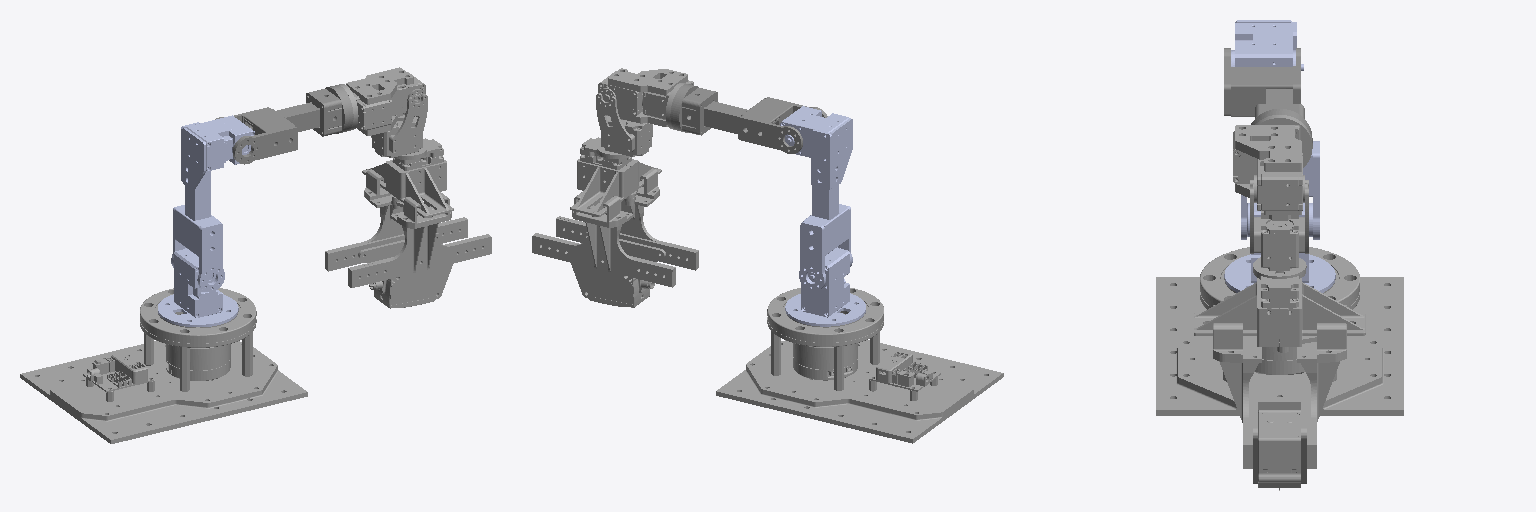
The robot description file, URDF, robot "arm_v20":
<?xml version="1.0" ?>
<!-- =================================================================================== -->
<!-- |    This document was autogenerated by xacro from [local-path]/ws_nhk/src/arm_v20_description-20251026T114629Z-1-001/arm_v20_description/urdf/arm_v20.xacro | -->
<!-- |    EDITING THIS FILE BY HAND IS NOT RECOMMENDED                                 | -->
<!-- =================================================================================== -->
<robot name="arm_v20">
  <material name="silver_default">
    <color rgba="0.700 0.700 0.700 1.000"/>
  </material>
  <material name="opaque202209238">
    <color rgba="0.792156862745098 0.8196078431372549 0.9333333333333333 1.0"/>
  </material>
  <material name="steel_satin">
    <color rgba="0.6274509803921569 0.6274509803921569 0.6274509803921569 1.0"/>
  </material>
  <transmission name="Revolute 1_tran">
    <type>transmission_interface/SimpleTransmission</type>
    <joint name="Revolute 1">
      <hardwareInterface>hardware_interface/EffortJointInterface</hardwareInterface>
    </joint>
    <actuator name="Revolute 1_actr">
      <hardwareInterface>hardware_interface/EffortJointInterface</hardwareInterface>
      <mechanicalReduction>1</mechanicalReduction>
    </actuator>
  </transmission>
  <transmission name="Revolute 2_tran">
    <type>transmission_interface/SimpleTransmission</type>
    <joint name="Revolute 2">
      <hardwareInterface>hardware_interface/EffortJointInterface</hardwareInterface>
    </joint>
    <actuator name="Revolute 2_actr">
      <hardwareInterface>hardware_interface/EffortJointInterface</hardwareInterface>
      <mechanicalReduction>1</mechanicalReduction>
    </actuator>
  </transmission>
  <transmission name="Revolute 3_tran">
    <type>transmission_interface/SimpleTransmission</type>
    <joint name="Revolute 3">
      <hardwareInterface>hardware_interface/EffortJointInterface</hardwareInterface>
    </joint>
    <actuator name="Revolute 3_actr">
      <hardwareInterface>hardware_interface/EffortJointInterface</hardwareInterface>
      <mechanicalReduction>1</mechanicalReduction>
    </actuator>
  </transmission>
  <transmission name="Revolute 4_tran">
    <type>transmission_interface/SimpleTransmission</type>
    <joint name="Revolute 4">
      <hardwareInterface>hardware_interface/EffortJointInterface</hardwareInterface>
    </joint>
    <actuator name="Revolute 4_actr">
      <hardwareInterface>hardware_interface/EffortJointInterface</hardwareInterface>
      <mechanicalReduction>1</mechanicalReduction>
    </actuator>
  </transmission>
  <transmission name="Revolute 5_tran">
    <type>transmission_interface/SimpleTransmission</type>
    <joint name="Revolute 5">
      <hardwareInterface>hardware_interface/EffortJointInterface</hardwareInterface>
    </joint>
    <actuator name="Revolute 5_actr">
      <hardwareInterface>hardware_interface/EffortJointInterface</hardwareInterface>
      <mechanicalReduction>1</mechanicalReduction>
    </actuator>
  </transmission>
  <transmission name="Revolute 6_tran">
    <type>transmission_interface/SimpleTransmission</type>
    <joint name="Revolute 6">
      <hardwareInterface>hardware_interface/EffortJointInterface</hardwareInterface>
    </joint>
    <actuator name="Revolute 6_actr">
      <hardwareInterface>hardware_interface/EffortJointInterface</hardwareInterface>
      <mechanicalReduction>1</mechanicalReduction>
    </actuator>
  </transmission>
  <link name="base_link">
    <inertial>
      <origin rpy="0 0 0" xyz="-0.022278248739678576 2.202100536240091e-05 0.024368049710172035"/>
      <mass value="4.587257651065842"/>
      <inertia ixx="0.011004" ixy="2.1e-05" ixz="-0.001934" iyy="0.018642" iyz="-3e-06" izz="0.023201"/>
    </inertial>
    <visual>
      <origin rpy="0 0 0" xyz="0 0 0"/>
      <geometry>
        <mesh filename="package://arm_v20_description/meshes/base_link.stl" scale="0.001 0.001 0.001"/>
      </geometry>
      <material name="silver_default"/>
    </visual>
    <collision>
      <origin rpy="0 0 0" xyz="0 0 0"/>
      <geometry>
        <mesh filename="package://arm_v20_description/meshes/base_link.stl" scale="0.001 0.001 0.001"/>
      </geometry>
    </collision>
  </link>
  <link name="link1_1">
    <inertial>
      <origin rpy="0 0 0" xyz="9.624761041591018e-05 0.0004766171386192786 0.04186909675865289"/>
      <mass value="0.9838737385924954"/>
      <inertia ixx="0.000872" ixy="0.0" ixz="1e-06" iyy="0.000818" iyz="-8e-06" izz="0.000427"/>
    </inertial>
    <visual>
      <origin rpy="0 0 0" xyz="-0.0 0.0 -0.0525"/>
      <geometry>
        <mesh filename="package://arm_v20_description/meshes/link1_1.stl" scale="0.001 0.001 0.001"/>
      </geometry>
      <material name="opaque202209238"/>
    </visual>
    <collision>
      <origin rpy="0 0 0" xyz="-0.0 0.0 -0.0525"/>
      <geometry>
        <mesh filename="package://arm_v20_description/meshes/link1_1.stl" scale="0.001 0.001 0.001"/>
      </geometry>
    </collision>
  </link>
  <link name="link2_1">
    <inertial>
      <origin rpy="0 0 0" xyz="0.010133653025085067 -0.030787540537666767 0.10364955203955004"/>
      <mass value="1.224302434218257"/>
      <inertia ixx="0.003371" ixy="6.3e-05" ixz="-0.000481" iyy="0.003402" iyz="0.000295" izz="0.000694"/>
    </inertial>
    <visual>
      <origin rpy="0 0 0" xyz="-2.1e-05 -0.024521 -0.123563"/>
      <geometry>
        <mesh filename="package://arm_v20_description/meshes/link2_1.stl" scale="0.001 0.001 0.001"/>
      </geometry>
      <material name="opaque202209238"/>
    </visual>
    <collision>
      <origin rpy="0 0 0" xyz="-2.1e-05 -0.024521 -0.123563"/>
      <geometry>
        <mesh filename="package://arm_v20_description/meshes/link2_1.stl" scale="0.001 0.001 0.001"/>
      </geometry>
    </collision>
  </link>
  <link name="link3_1">
    <inertial>
      <origin rpy="0 0 0" xyz="0.0767579948374143 -0.020345095492947766 -1.1714610781421442e-08"/>
      <mass value="0.7543922108135824"/>
      <inertia ixx="0.000301" ixy="-0.000236" ixz="0.0" iyy="0.001471" iyz="0.0" izz="0.001623"/>
    </inertial>
    <visual>
      <origin rpy="0 0 0" xyz="-0.034771 -0.012321 -0.265313"/>
      <geometry>
        <mesh filename="package://arm_v20_description/meshes/link3_1.stl" scale="0.001 0.001 0.001"/>
      </geometry>
      <material name="steel_satin"/>
    </visual>
    <collision>
      <origin rpy="0 0 0" xyz="-0.034771 -0.012321 -0.265313"/>
      <geometry>
        <mesh filename="package://arm_v20_description/meshes/link3_1.stl" scale="0.001 0.001 0.001"/>
      </geometry>
    </collision>
  </link>
  <link name="link4_1">
    <inertial>
      <origin rpy="0 0 0" xyz="0.0407741110945509 -0.004894497498326476 -4.247916734145818e-06"/>
      <mass value="1.0144724963260483"/>
      <inertia ixx="0.000321" ixy="-0.000103" ixz="0.0" iyy="0.000784" iyz="0.0" izz="0.000827"/>
    </inertial>
    <visual>
      <origin rpy="0 0 0" xyz="-0.170171 0.000179 -0.265313"/>
      <geometry>
        <mesh filename="package://arm_v20_description/meshes/link4_1.stl" scale="0.001 0.001 0.001"/>
      </geometry>
      <material name="silver_default"/>
    </visual>
    <collision>
      <origin rpy="0 0 0" xyz="-0.170171 0.000179 -0.265313"/>
      <geometry>
        <mesh filename="package://arm_v20_description/meshes/link4_1.stl" scale="0.001 0.001 0.001"/>
      </geometry>
    </collision>
  </link>
  <link name="link5_1">
    <inertial>
      <origin rpy="0 0 0" xyz="0.04474344188385446 0.018892728314517836 -0.0113461510891818"/>
      <mass value="0.4401808093617498"/>
      <inertia ixx="0.000133" ixy="0.0" ixz="5e-06" iyy="0.00014" iyz="0.0" izz="0.000129"/>
    </inertial>
    <visual>
      <origin rpy="0 0 0" xyz="-0.248771 0.019079 -0.265313"/>
      <geometry>
        <mesh filename="package://arm_v20_description/meshes/link5_1.stl" scale="0.001 0.001 0.001"/>
      </geometry>
      <material name="silver_default"/>
    </visual>
    <collision>
      <origin rpy="0 0 0" xyz="-0.248771 0.019079 -0.265313"/>
      <geometry>
        <mesh filename="package://arm_v20_description/meshes/link5_1.stl" scale="0.001 0.001 0.001"/>
      </geometry>
    </collision>
  </link>
  <link name="endeffector_1">
    <inertial>
      <origin rpy="0 0 0" xyz="0.08904032725072031 1.462168207331106e-05 0.00266069074925096"/>
      <mass value="2.250858835490703"/>
      <inertia ixx="0.002403" ixy="-3e-06" ixz="0.000385" iyy="0.00715" iyz="-2e-06" izz="0.006731"/>
    </inertial>
    <visual>
      <origin rpy="0 0 0" xyz="-0.313771 0.000179 -0.265313"/>
      <geometry>
        <mesh filename="package://arm_v20_description/meshes/endeffector_1.stl" scale="0.001 0.001 0.001"/>
      </geometry>
      <material name="silver_default"/>
    </visual>
    <collision>
      <origin rpy="0 0 0" xyz="-0.313771 0.000179 -0.265313"/>
      <geometry>
        <mesh filename="package://arm_v20_description/meshes/endeffector_1.stl" scale="0.001 0.001 0.001"/>
      </geometry>
    </collision>
  </link>
  <joint name="Revolute 1" type="continuous">
    <origin rpy="0 0 0" xyz="0.0 0.0 0.0525"/>
    <parent link="base_link"/>
    <child link="link1_1"/>
    <axis xyz="-0.0 -0.0 1.0"/>
  </joint>
  <joint name="Revolute 2" type="revolute">
    <origin rpy="0 0 0" xyz="2.1e-05 0.024521 0.071063"/>
    <parent link="link1_1"/>
    <child link="link2_1"/>
    <axis xyz="0.0 1.0 -0.0"/>
    <limit effort="100" lower="-1.570796" upper="1.570796" velocity="100"/>
  </joint>
  <joint name="Revolute 3" type="revolute">
    <origin rpy="0 0 0" xyz="0.03475 -0.0122 0.14175"/>
    <parent link="link2_1"/>
    <child link="link3_1"/>
    <axis xyz="0.0 1.0 -0.0"/>
    <limit effort="100" lower="-1.570796" upper="1.570796" velocity="100"/>
  </joint>
  <joint name="Revolute 4" type="continuous">
    <origin rpy="0 0 0" xyz="0.1354 -0.0125 0.0"/>
    <parent link="link3_1"/>
    <child link="link4_1"/>
    <axis xyz="1.0 -0.0 -0.0"/>
  </joint>
  <joint name="Revolute 5" type="revolute">
    <origin rpy="0 1.57 0" xyz="0.0786 -0.0189 0.0"/>
    <parent link="link4_1"/>
    <child link="link5_1"/>
    <axis xyz="0.0 1.0 -0.0"/>
    <limit effort="100" lower="-3.141592" upper="1.570796" velocity="100"/>
  </joint>
  <joint name="Revolute 6" type="continuous">
    <origin rpy="0 0 0" xyz="0.065 0.0189 0.0"/>
    <parent link="link5_1"/>
    <child link="endeffector_1"/>
    <axis xyz="1.0 -0.0 -0.0"/>
  </joint>
</robot>

--- Render facts (derived) ---
3 views of the same robot in one strip: view 1: azimuth 30°, elevation 25°; view 2: azimuth 150°, elevation 25°; view 3: azimuth 270°, elevation 25° (orthographic).
Robot: arm_v20 — 7 links, 6 joints (3 revolute, 3 continuous); root link base_link; default pose: all joints at 0.
Links seen in each view (by area): view 1: base_link, endeffector_1, link2_1, link3_1, link4_1, link1_1, link5_1; view 2: base_link, endeffector_1, link2_1, link3_1, link4_1, link1_1, link5_1; view 3: base_link, endeffector_1, link4_1, link3_1, link2_1, link5_1, link1_1.
Boxes of the visible links, x1=… form: base_link: x1=20, y1=288, x2=307, y2=443; endeffector_1: x1=325, y1=138, x2=491, y2=308; link2_1: x1=171, y1=115, x2=254, y2=291; link3_1: x1=215, y1=85, x2=353, y2=164; link4_1: x1=339, y1=67, x2=425, y2=135; link1_1: x1=158, y1=248, x2=238, y2=326; link5_1: x1=371, y1=94, x2=427, y2=157; base_link: x1=716, y1=288, x2=1003, y2=443; endeffector_1: x1=532, y1=137, x2=698, y2=307; link2_1: x1=780, y1=106, x2=852, y2=291; link3_1: x1=670, y1=84, x2=827, y2=153; link4_1: x1=598, y1=68, x2=693, y2=129; link1_1: x1=785, y1=247, x2=865, y2=326; link5_1: x1=596, y1=93, x2=652, y2=156; base_link: x1=1156, y1=247, x2=1403, y2=415; endeffector_1: x1=1194, y1=270, x2=1365, y2=490; link4_1: x1=1233, y1=115, x2=1312, y2=214; link3_1: x1=1224, y1=48, x2=1312, y2=142; link2_1: x1=1231, y1=20, x2=1319, y2=239; link5_1: x1=1250, y1=180, x2=1308, y2=278; link1_1: x1=1224, y1=203, x2=1335, y2=292.
Size in the robot's own frame: 0.489 by 0.186 by 0.2918 metres.
Meshes: 7 distinct files referenced, 7 mesh visuals loaded (7 binary STL).
